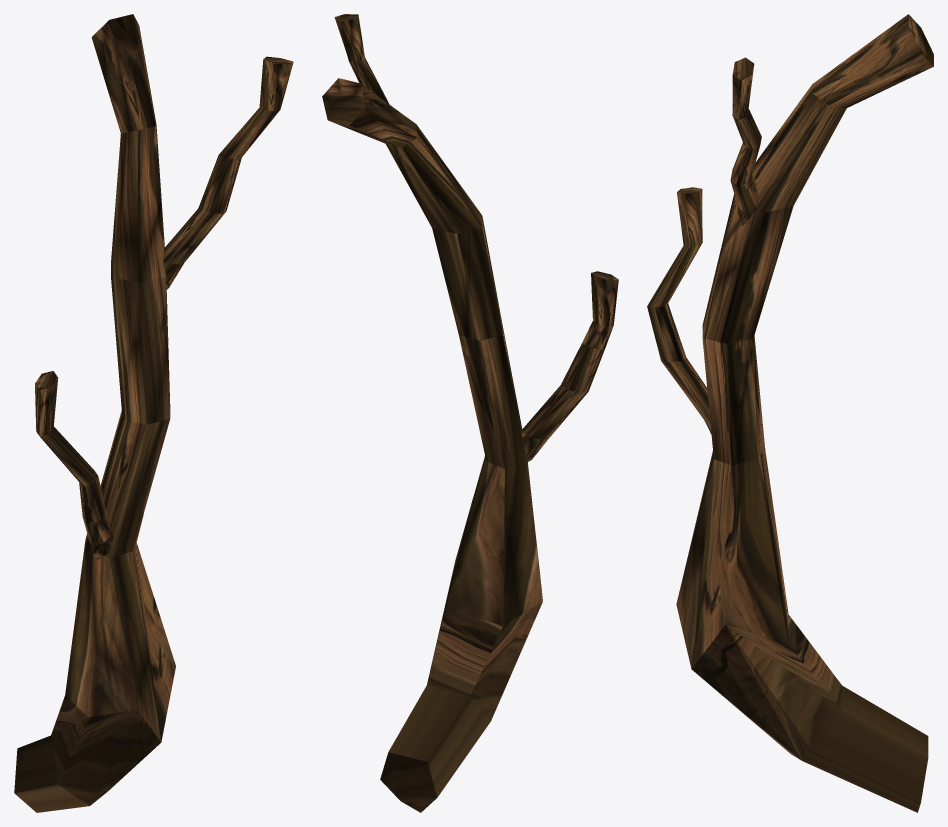
The model's file is vine2.FBX.
3 views of the same model, side by side, from view 1: azimuth 30°, elevation 25°; view 2: azimuth 150°, elevation 25°; view 3: azimuth 270°, elevation 25° (orthographic). The views are drawn at different scales.
Visible parts, largest first — view 1: Cylinder001; view 2: Cylinder001; view 3: Cylinder001.
Boxes of the visible parts, <box> form: Cylinder001: <box>14,14,293,812</box>; Cylinder001: <box>322,14,618,812</box>; Cylinder001: <box>647,14,933,812</box>.
Size of the model in its own units: 240 by 633 by 198.
